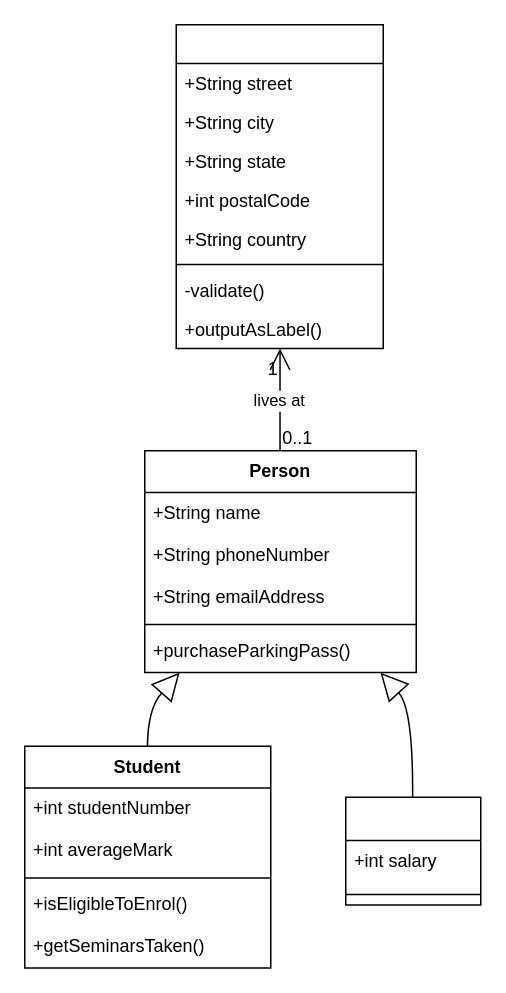
Image size: 506x993. Some labels were removed from this diagram. The box of each missing label's shape, as (x1, y1, x2, y2) in pixels:
Address: (175, 23, 383, 349)
Professor: (344, 796, 481, 905)
